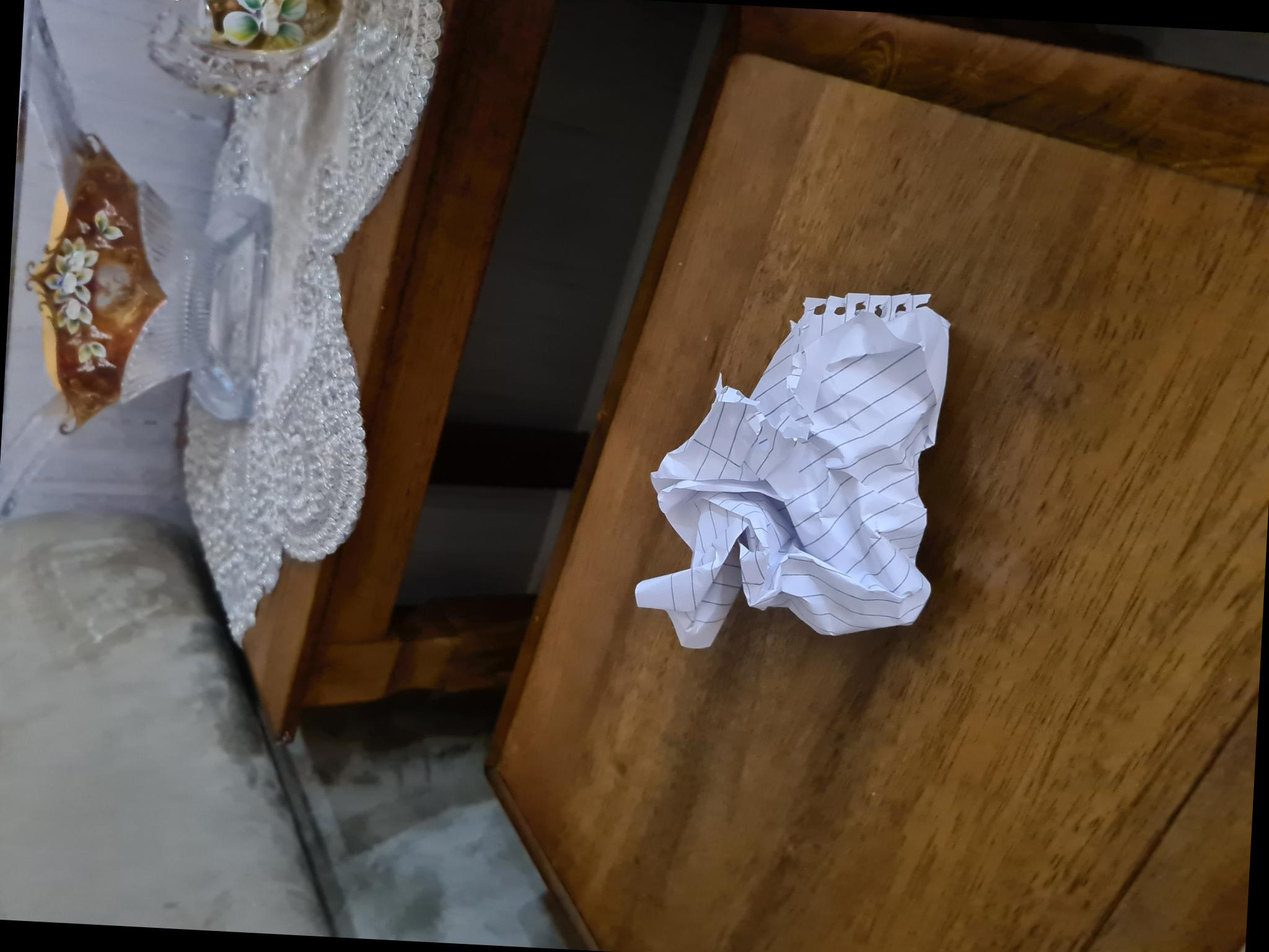Kertas: (296, 627, 650, 940)
